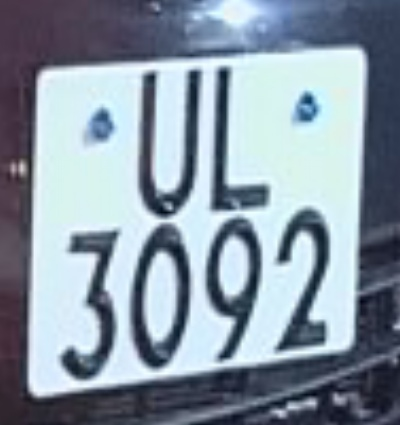0: (119, 215, 206, 381)
2: (262, 199, 348, 361)
3: (48, 214, 132, 386)
9: (193, 203, 276, 378)
L: (202, 58, 292, 215)
U: (128, 62, 213, 220)
